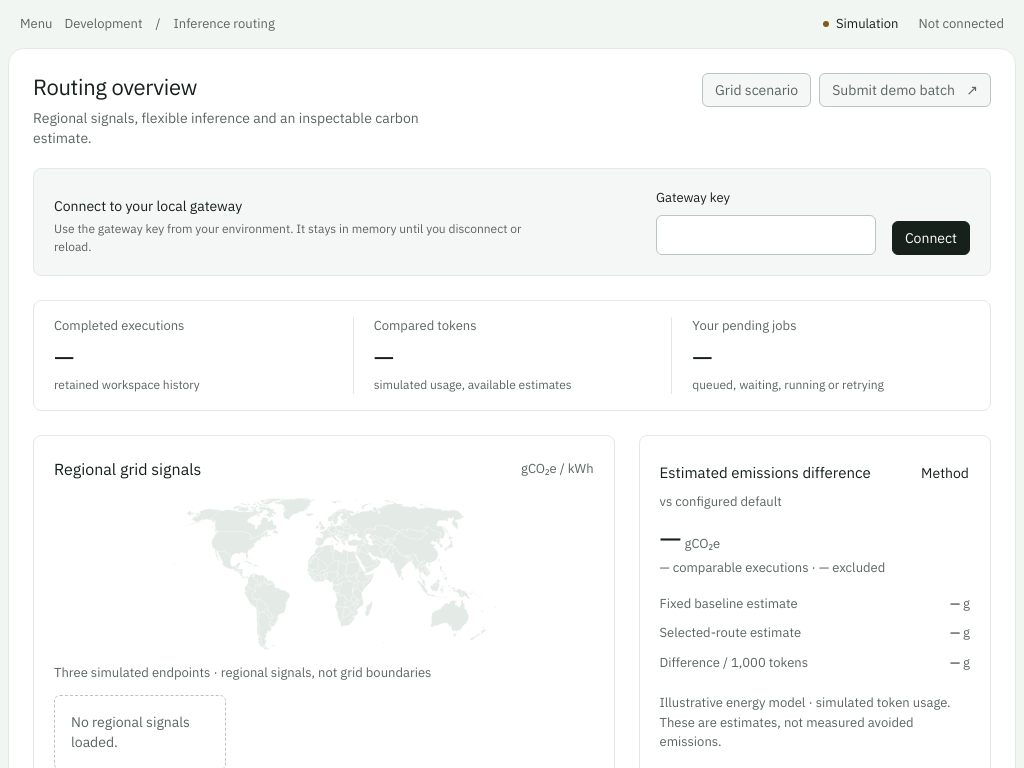
Test: dashboard › retains last-good values when refresh fails
Type "test-client-key" into the password field labelled "Gateway key" at (766, 235), box [656,215,876,255]
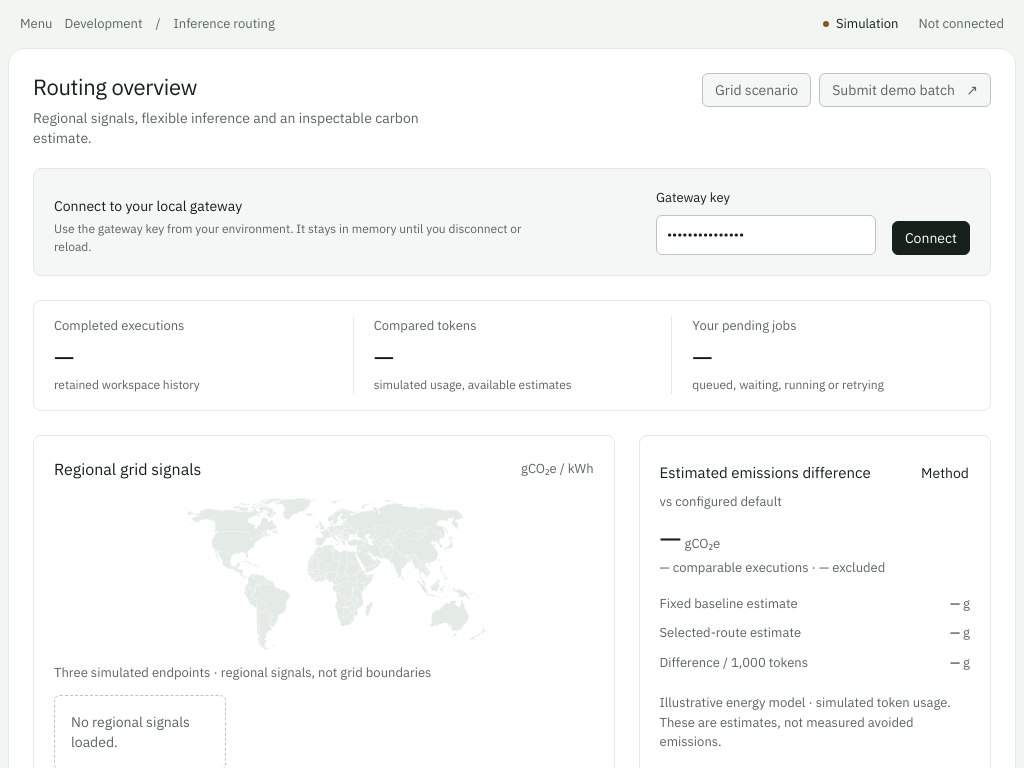
Click the button "Connect" at (931, 238), box [892,221,970,255]
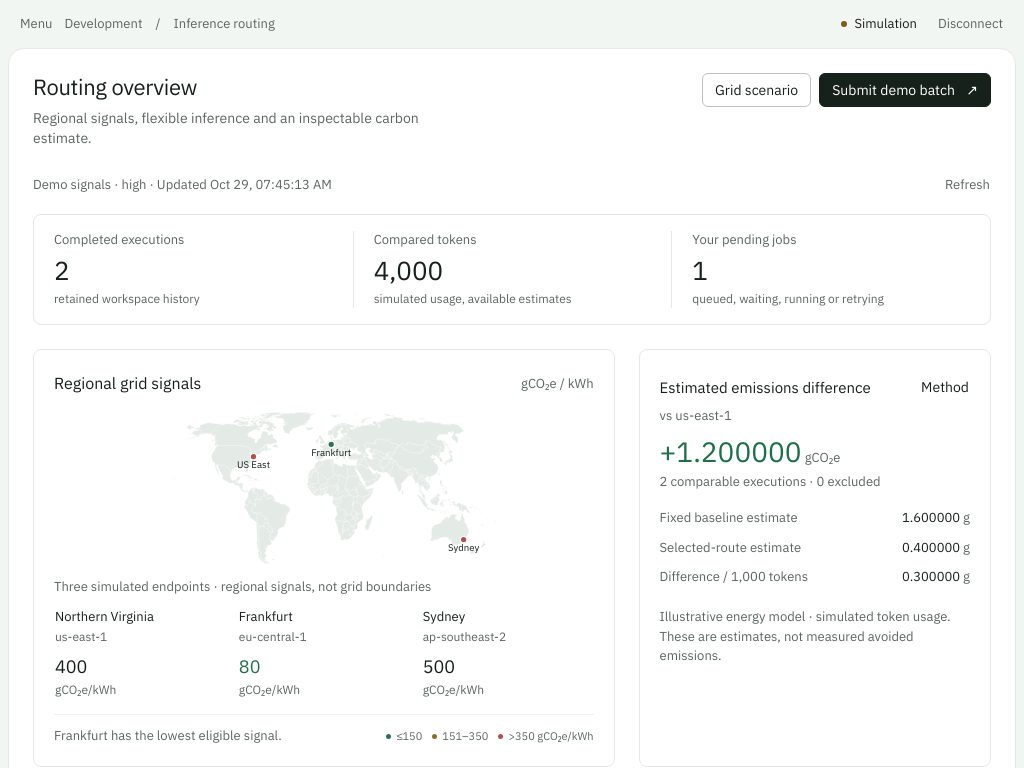
Expected: the button "Disconnect" is shown, [937,7,1004,41]
Now the text "+1.200000" is shown, box [660,433,802,470]
Click the button "Refresh" at (968, 185), box [944,168,991,202]
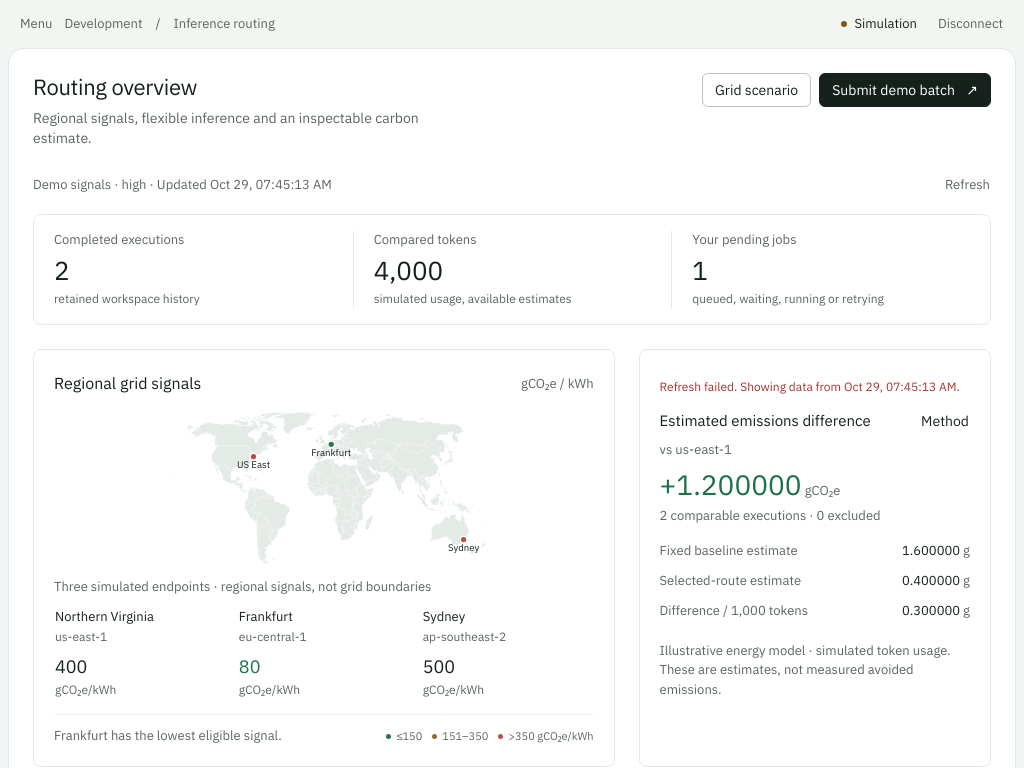
Now the text "+1.200000" is shown, box [660,466,802,503]
Now the text "Refresh failed. Showing data from Oct 29, 07:45:13 AM." is shown, box [660,379,960,394]
